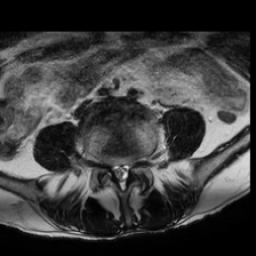CCS_normal: (118, 157, 124, 194)
LFS_severe_stenosis: (133, 154, 138, 170)
LLS_normal: (124, 159, 131, 181)
RFS_severe_stenosis: (102, 154, 111, 177)
RLS_normal: (111, 160, 118, 182)
